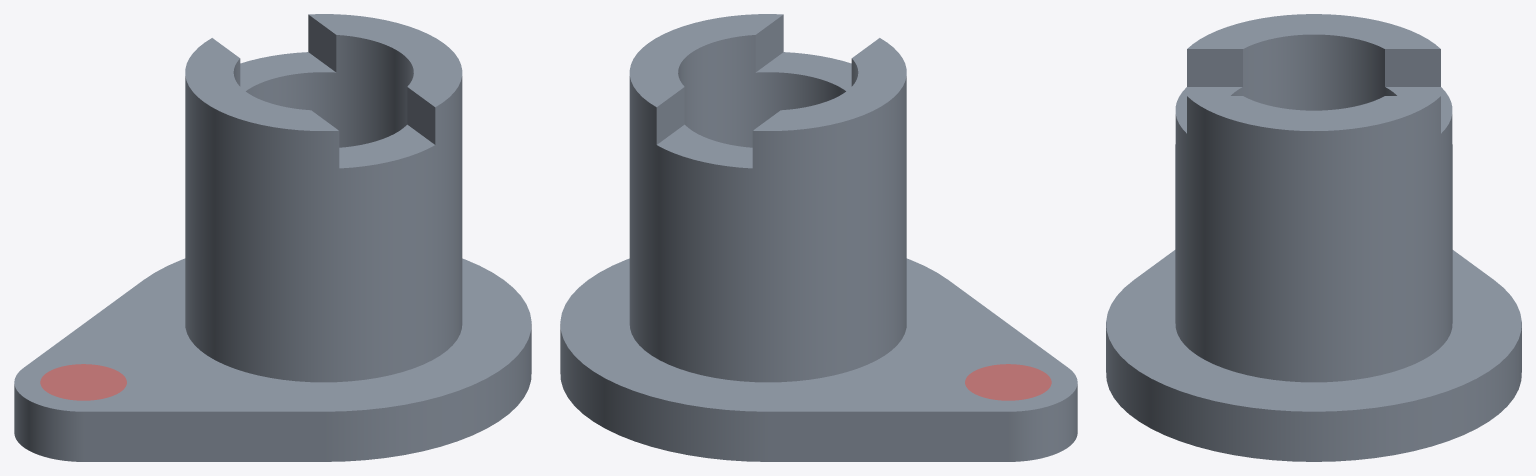
File: step_06.glb
3 renders of one model, left to right at view 1: azimuth 30°, elevation 25°; view 2: azimuth 150°, elevation 25°; view 3: azimuth 270°, elevation 25°, orthographic.
Parts seen in each view (by area): view 1: part__slotted boss flange, removed__slotted boss flange; view 2: part__slotted boss flange, removed__slotted boss flange; view 3: part__slotted boss flange.
Part boxes in pixels (x1=…): part__slotted boss flange: x1=14, y1=14, x2=531, y2=461; removed__slotted boss flange: x1=40, y1=364, x2=126, y2=400; part__slotted boss flange: x1=560, y1=14, x2=1077, y2=461; removed__slotted boss flange: x1=965, y1=364, x2=1051, y2=400; part__slotted boss flange: x1=1106, y1=14, x2=1521, y2=461.
Size of the model in its own units: 79.99 by 48 by 59.98.
